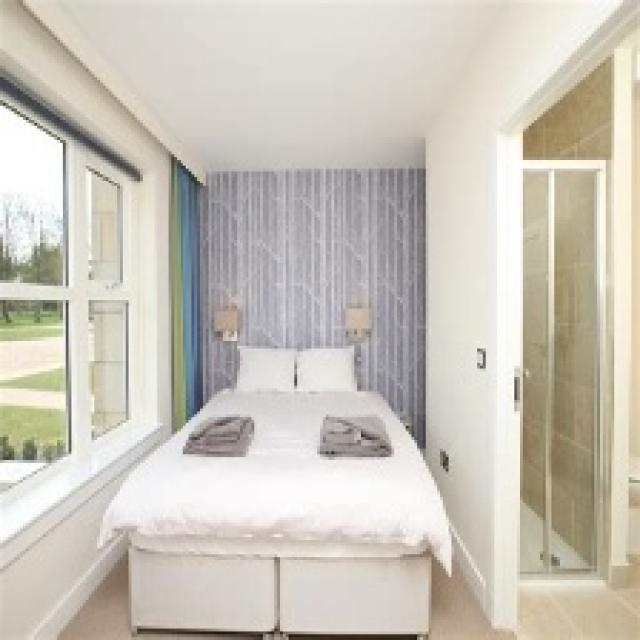Bed: (97, 386, 452, 637)
